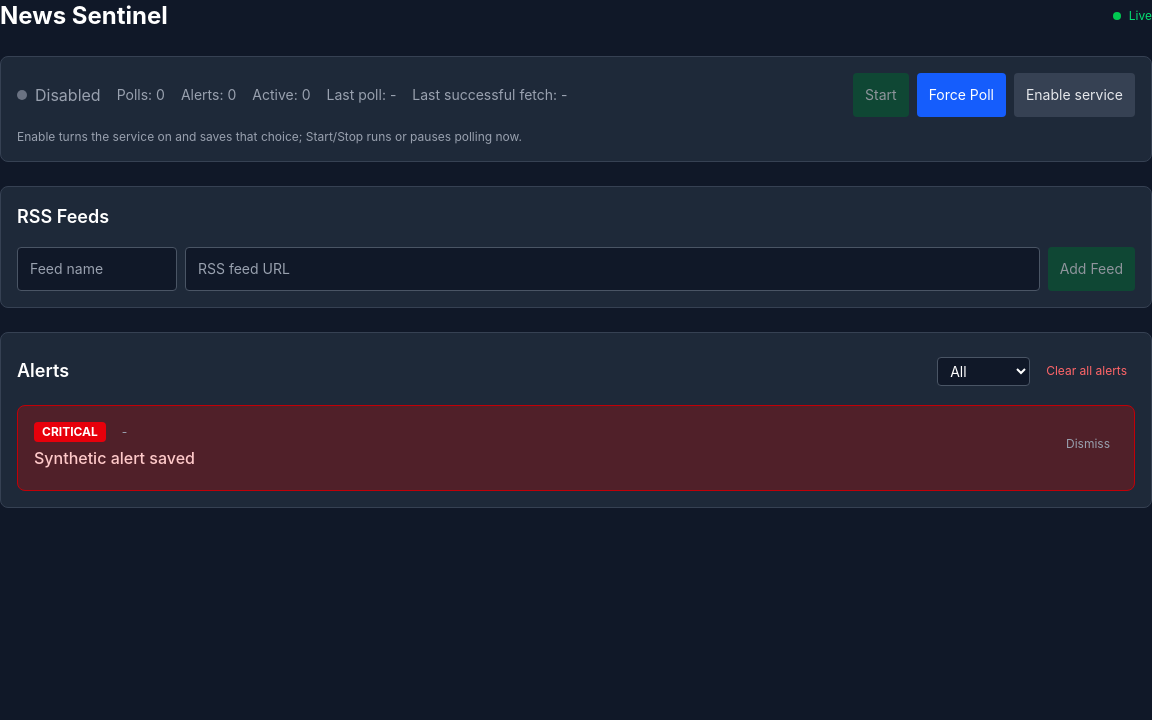
Test: retains matching Sentinel data on later-page failure, blocks Clear-all, and retries the full collection
This screenshot has width=1152, height=720.
Expected: the heading "Synthetic alert saved" is shown, [34,448,195,468]
Step 1. Click the button "Force Poll" → (961, 95), box [917,73,1006,117]
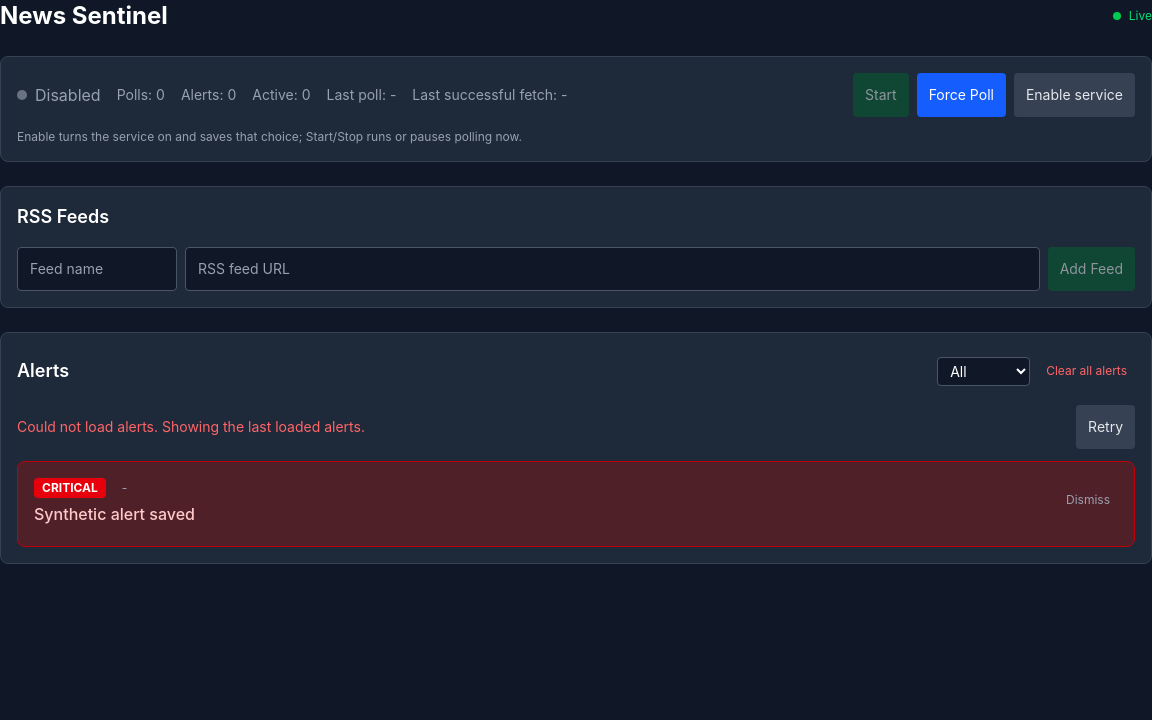
Expected: the heading "Synthetic alert saved" is shown, [34,504,195,524]
Expected: the message shows "Showing the last loaded alerts.", [17,418,365,435]
Step 2. Click the button "Clear all alerts" → (1087, 371), box [1038,349,1135,393]
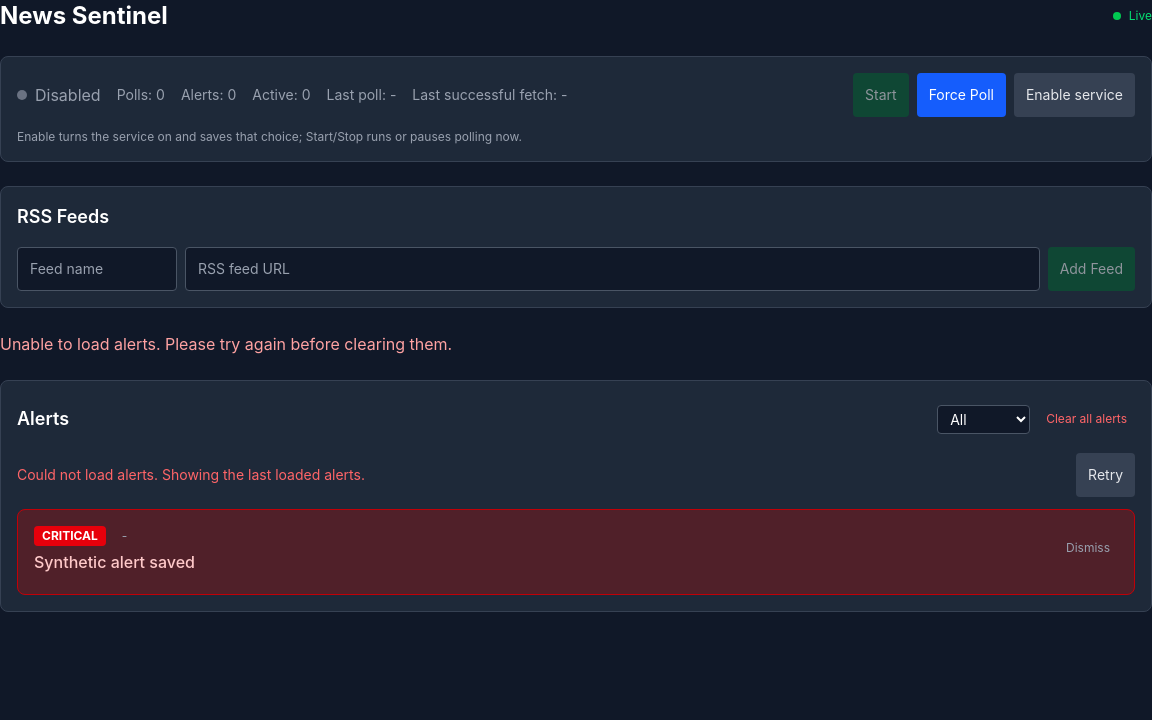
Expected: the text "Unable to load alerts. Please try again before clearing them." is shown, [0,334,452,354]
Step 3. Click the button "Retry" → (1106, 475), box [1076,453,1135,497]
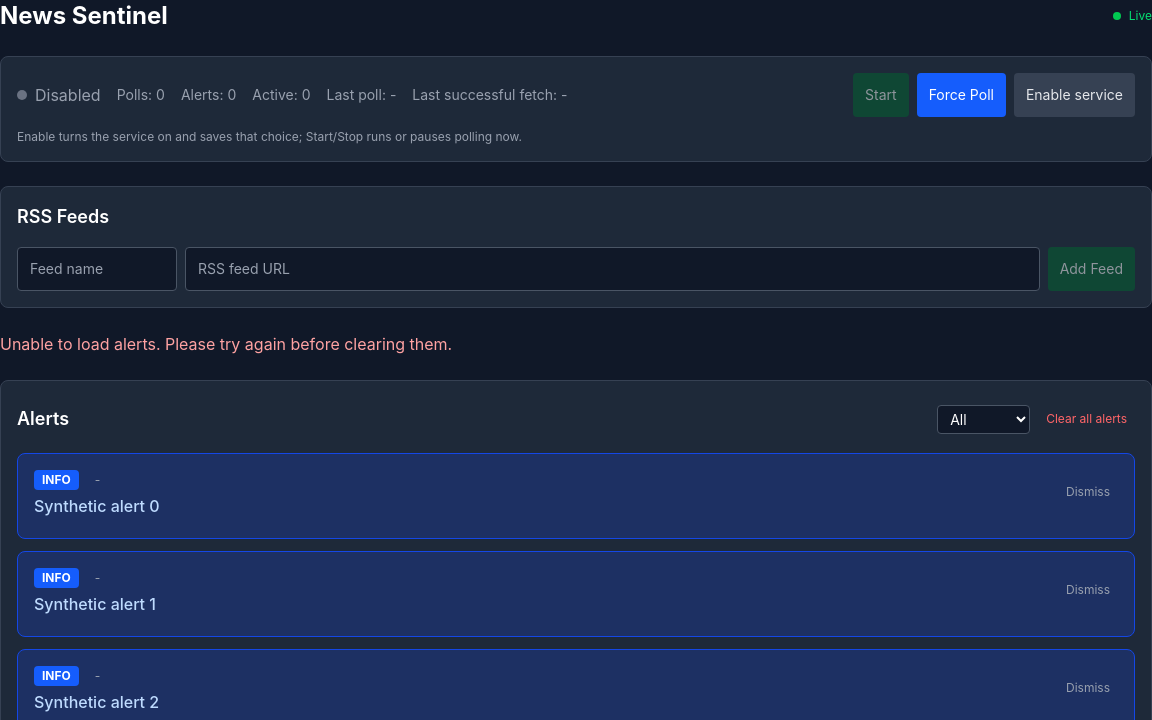
Expected: the heading "Synthetic alert saved" is gone
Expected: the text "Showing the last loaded alerts" is gone
Step 4. Click the button "Clear all alerts" → (1087, 419), box [1038,397,1135,441]
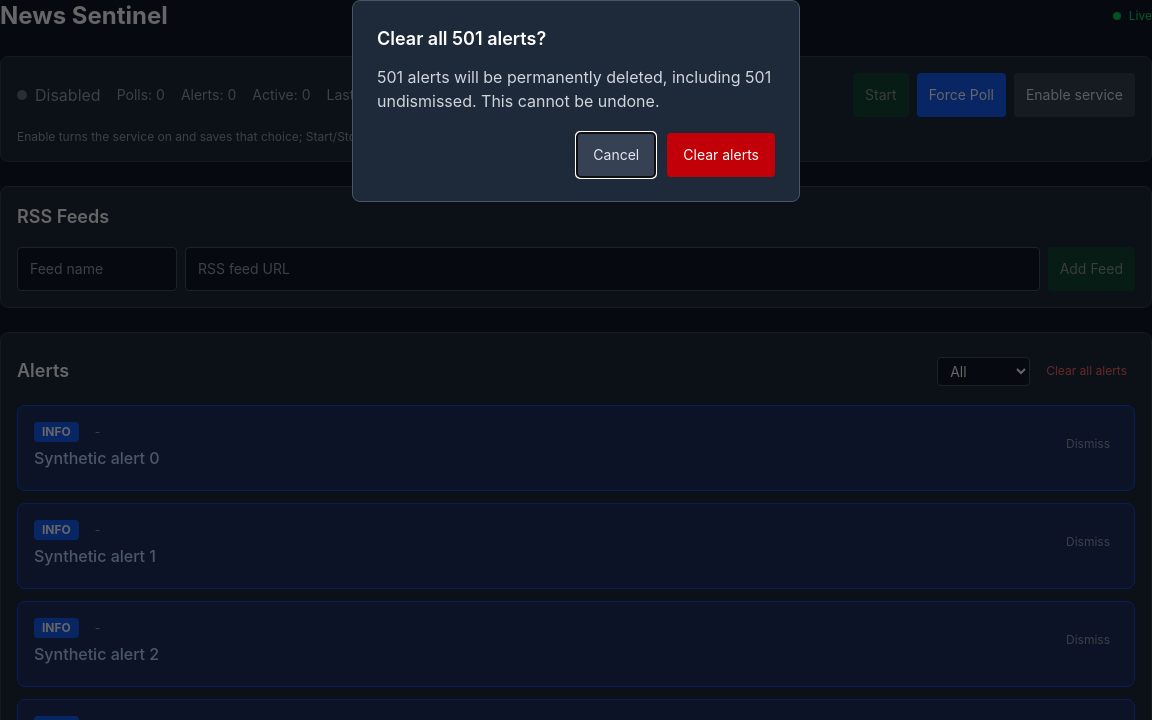
Expected: the heading "Clear all 501 alerts?" is shown, [377,28,546,49]
